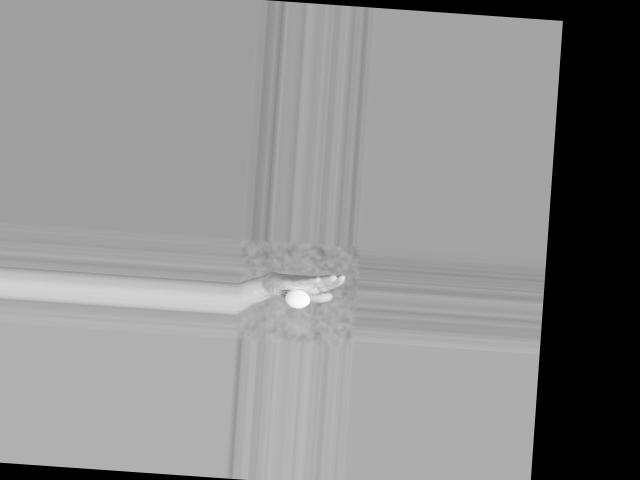egg: (284, 288, 310, 309)
